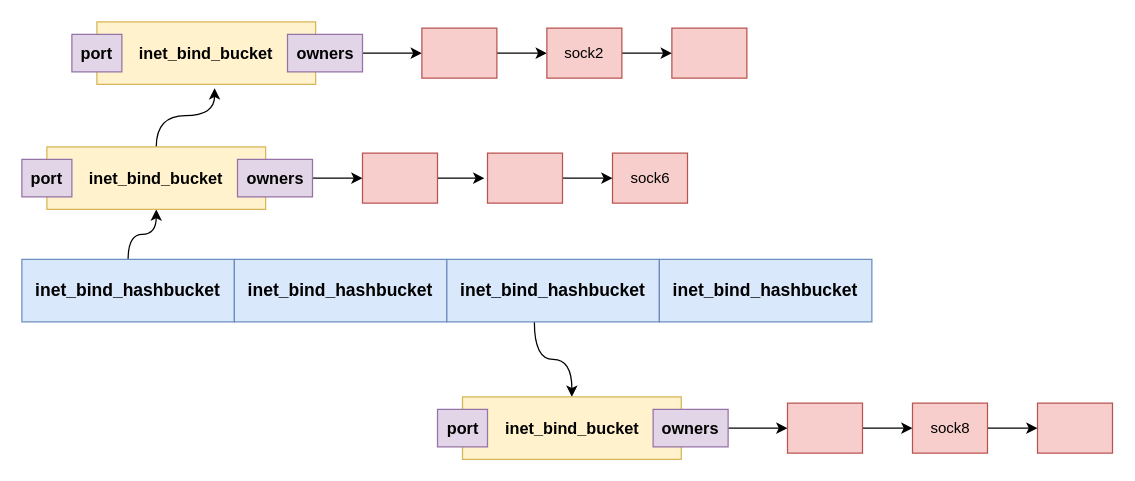
Some shapes in this 1135 by 481 pixel diagram are drawn without their labels. Here are the shapes that lost their labels. From the top down, the box of each, then its label:
(421, 27, 497, 78): sock1
(671, 27, 747, 78): sock3
(361, 152, 438, 203): sock4
(486, 152, 562, 203): sock5
(786, 402, 862, 453): sock7
(1036, 402, 1112, 453): sock9
